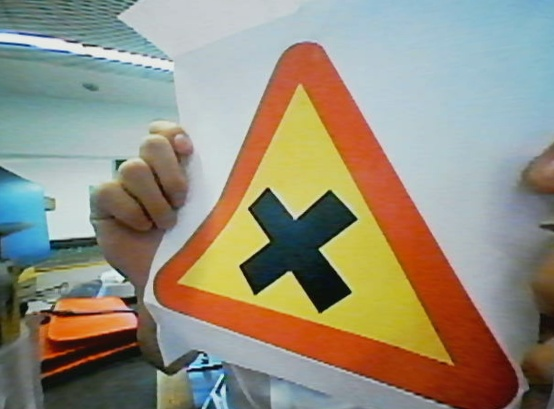junction: (161, 38, 548, 409)
